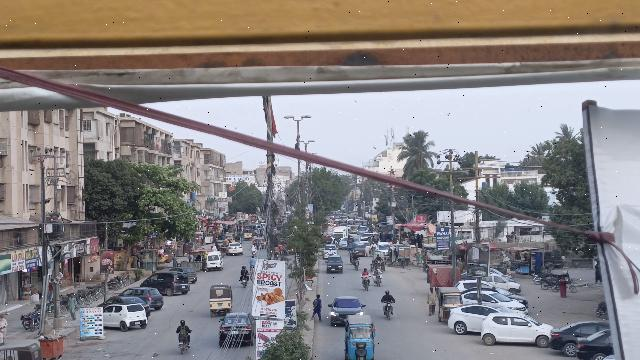Bike: (381, 299, 396, 322), (177, 334, 189, 354), (372, 272, 385, 286), (360, 275, 371, 291)
Car: (479, 309, 553, 347), (546, 315, 607, 355), (445, 304, 518, 337), (216, 311, 257, 346), (142, 270, 192, 295), (328, 296, 368, 327), (102, 304, 149, 329), (123, 285, 165, 309), (324, 255, 344, 273)
Person: (424, 285, 439, 316), (311, 294, 324, 321), (68, 292, 80, 320), (176, 319, 193, 338), (380, 288, 397, 303), (359, 266, 372, 279), (371, 263, 382, 274)
Rickshaw: (344, 313, 374, 360), (436, 286, 463, 322), (208, 284, 235, 315)
Van: (204, 251, 225, 271)
